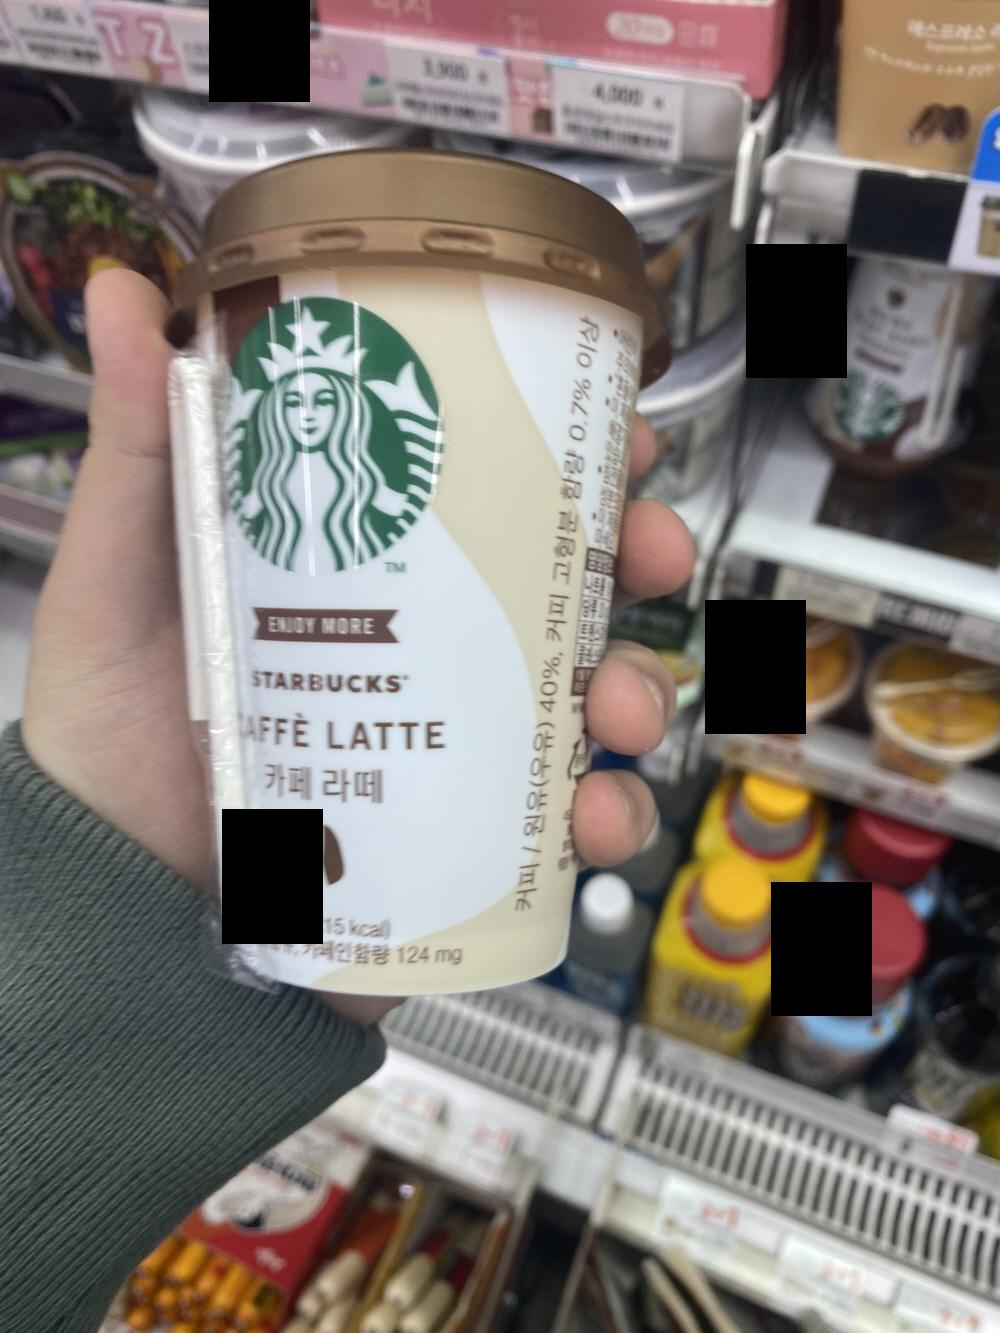starbucks_cafelatte: (161, 152, 618, 995)
